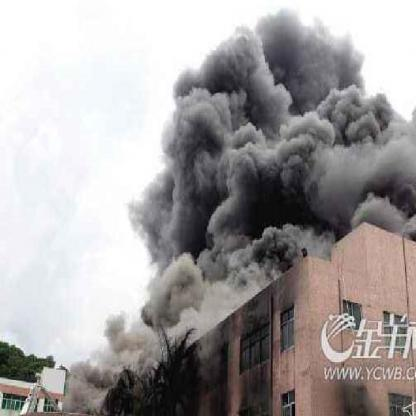smoke: (164, 51, 316, 260), (320, 50, 385, 250), (154, 263, 222, 354), (224, 11, 348, 51), (386, 102, 414, 244), (129, 159, 164, 263), (107, 307, 152, 372), (64, 353, 106, 413)
